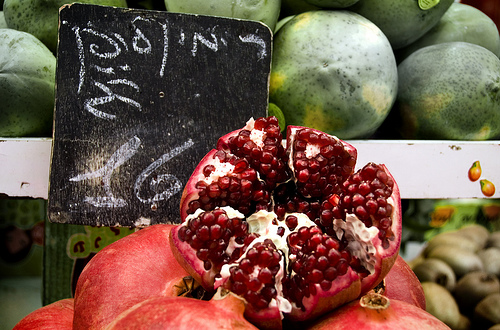pomogranate: (169, 116, 402, 325), (70, 222, 217, 328)
